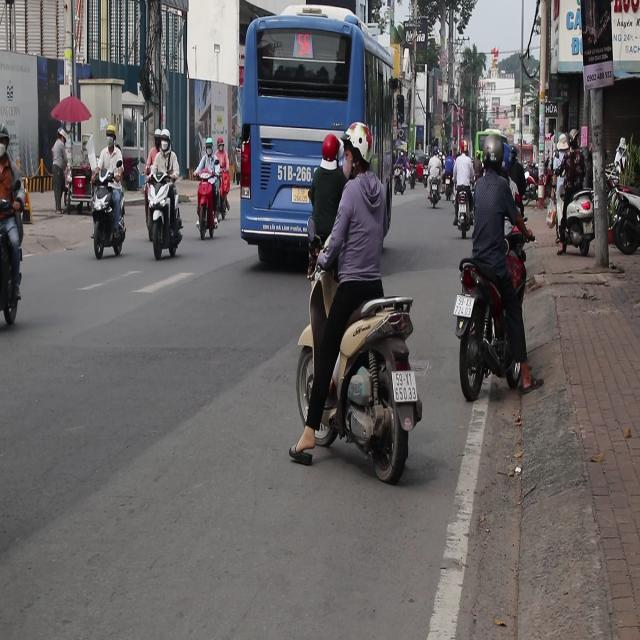bus: (236, 2, 399, 266), (472, 126, 492, 156)
motorbike: (296, 286, 426, 484), (453, 266, 543, 425), (0, 175, 22, 345), (144, 175, 185, 261), (90, 179, 127, 259), (556, 178, 593, 258), (606, 178, 640, 258), (452, 189, 477, 255), (195, 180, 212, 247), (210, 162, 228, 222), (424, 176, 441, 212), (393, 163, 408, 194), (536, 182, 549, 212), (404, 171, 416, 191)
